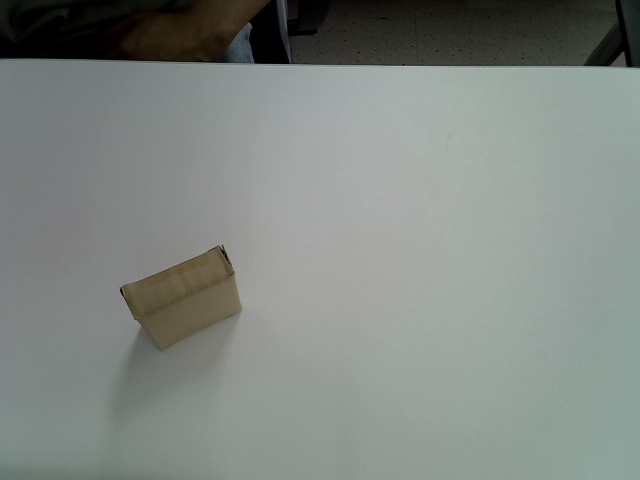normal: (120, 244, 243, 352)
